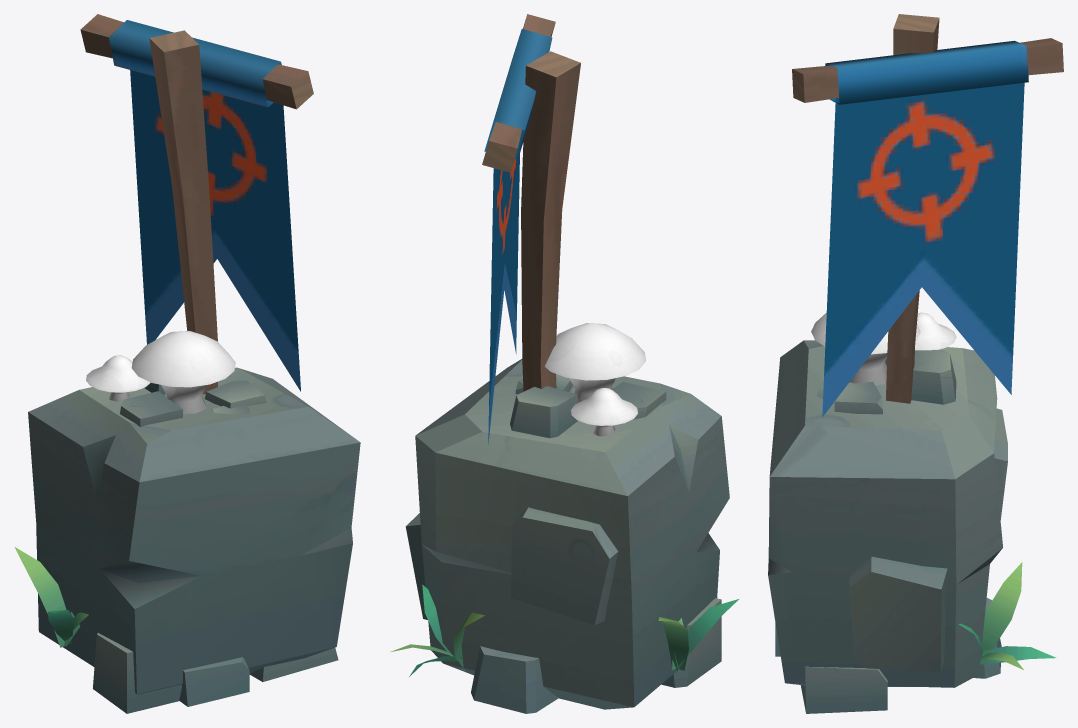
Rendered from Pillar1B-006_02_23_8006.fbx.
3 renders of one model, left to right at view 1: azimuth 30°, elevation 25°; view 2: azimuth 150°, elevation 25°; view 3: azimuth 270°, elevation 25°, orthographic. The views are drawn at different scales.
Visible parts, largest first — view 1: Monolith3, Flag3 (1), Wood1.002 (1), ClothTop3 (1), Shroom1 (1), DecoRocks (1), WoodTop (1), Plant3 (4), Shroom2 (1); view 2: Monolith3, Wood1.002 (1), Shroom1 (1), Flag3 (1), DecoRocks (1), ClothTop3 (1), Shroom2 (1), Plant3 (4), WoodTop (1), Plant3 (3); view 3: Monolith3, Flag3 (1), ClothTop3 (1), Wood1.002 (1), DecoRocks (1), Plant3 (3), WoodTop (1), Shroom1 (1), Shroom2 (1).
Part boxes in pixels (left/top/right/bottom): Monolith3: left=28, top=367, right=360, bottom=713; Flag3 (1): left=130, top=70, right=300, bottom=391; Wood1.002 (1): left=149, top=30, right=217, bottom=394; ClothTop3 (1): left=108, top=20, right=281, bottom=107; Shroom1 (1): left=131, top=331, right=235, bottom=413; DecoRocks (1): left=120, top=380, right=266, bottom=427; WoodTop (1): left=80, top=14, right=313, bottom=109; Plant3 (4): left=14, top=547, right=88, bottom=647; Shroom2 (1): left=86, top=355, right=150, bottom=401; Monolith3: left=405, top=359, right=729, bottom=713; Wood1.002 (1): left=521, top=51, right=580, bottom=391; Shroom1 (1): left=544, top=323, right=645, bottom=402; Flag3 (1): left=488, top=154, right=519, bottom=444; DecoRocks (1): left=510, top=374, right=666, bottom=438; ClothTop3 (1): left=484, top=29, right=552, bottom=159; Shroom2 (1): left=571, top=388, right=637, bottom=436; Plant3 (4): left=658, top=599, right=738, bottom=671; WoodTop (1): left=482, top=14, right=555, bottom=172; Plant3 (3): left=391, top=584, right=485, bottom=676; Monolith3: left=768, top=340, right=1007, bottom=713; Flag3 (1): left=822, top=82, right=1024, bottom=417; ClothTop3 (1): left=825, top=40, right=1028, bottom=104; Wood1.002 (1): left=886, top=14, right=939, bottom=403; DecoRocks (1): left=817, top=350, right=956, bottom=414; Plant3 (3): left=958, top=562, right=1056, bottom=669; WoodTop (1): left=792, top=38, right=1063, bottom=102; Shroom1 (1): left=811, top=313, right=920, bottom=385; Shroom2 (1): left=915, top=312, right=956, bottom=350.
Size of the model in its own units: 3 by 6.14 by 2.59.
